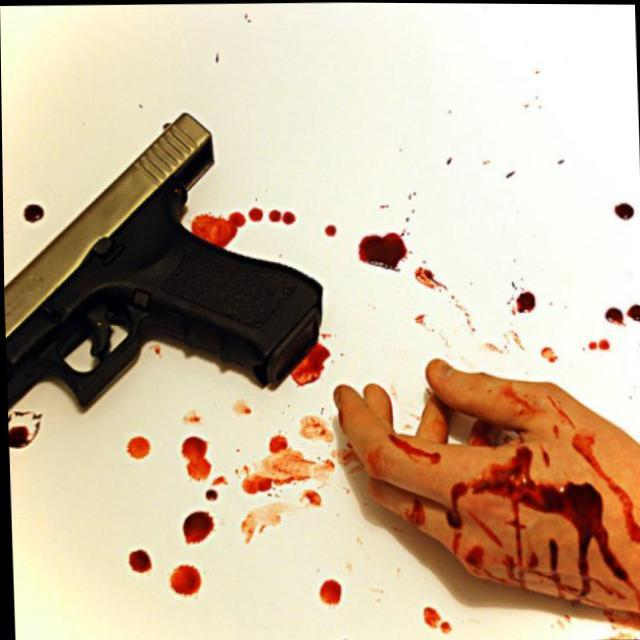weapon: (1, 91, 311, 458), (1, 104, 324, 417)
